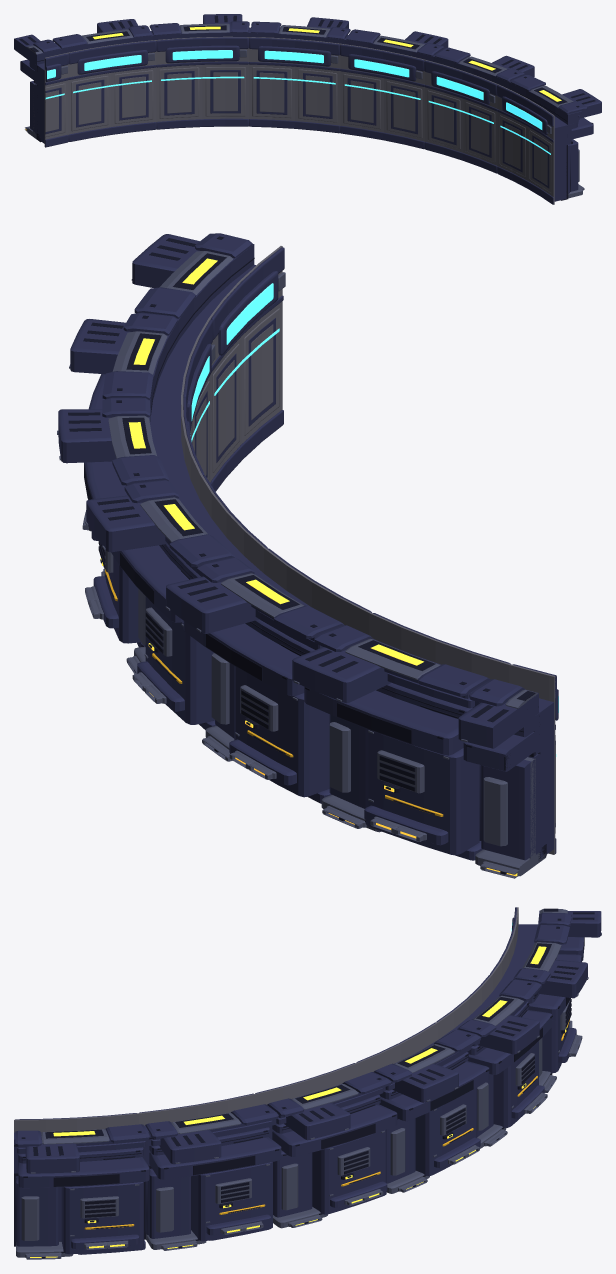
File: hull.arc4.a.glb
3 views of the same model, one above another, from view 1: azimuth 30°, elevation 25°; view 2: azimuth 150°, elevation 25°; view 3: azimuth 270°, elevation 25° (orthographic). The views are drawn at different scales.
Visible parts, largest first — view 1: GEO-hull.arc4.a; view 2: GEO-hull.arc4.a; view 3: GEO-hull.arc4.a.
Part boxes in pixels (<box>): GEO-hull.arc4.a: <box>14,14,601,204</box>; GEO-hull.arc4.a: <box>57,233,558,878</box>; GEO-hull.arc4.a: <box>14,907,601,1259</box>.
Bounding box in the file's own units: 4.43 × 1 × 4.43.
